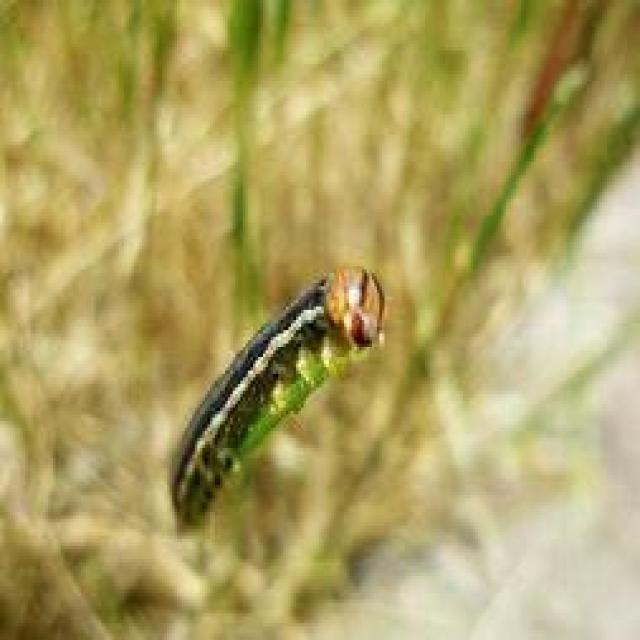army worm: (164, 242, 384, 535)
